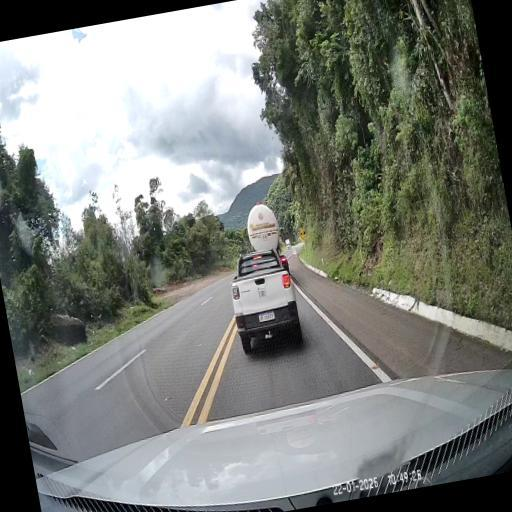A-27: (298, 226, 308, 240)
